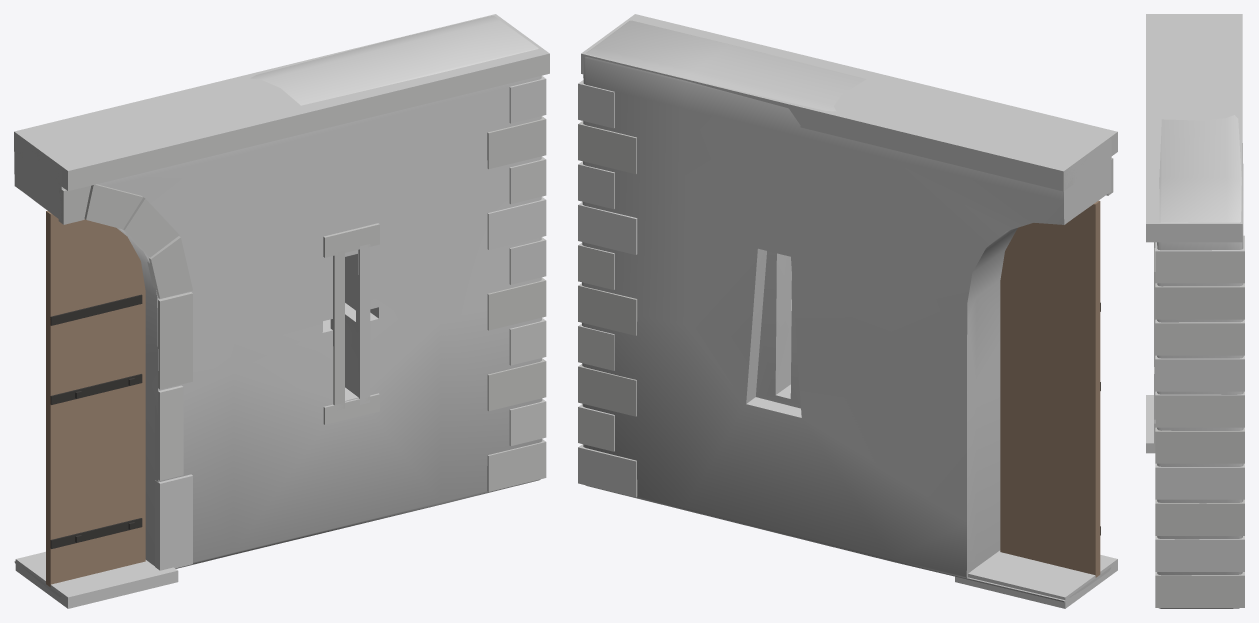
The model's file is Kit_RealKeep_W1FR.fbx.
3 renders of one model, left to right at view 1: azimuth 30°, elevation 25°; view 2: azimuth 150°, elevation 25°; view 3: azimuth 270°, elevation 25°, orthographic. The views are drawn at different scales.
Visible parts, largest first — view 1: Kit_RealKeep_W1FR_LOD0; view 2: Kit_RealKeep_W1FR_LOD0; view 3: Kit_RealKeep_W1FR_LOD0.
Boxes of the visible parts, box(x1,y1,x2,y2) form: Kit_RealKeep_W1FR_LOD0: box(14, 14, 549, 608); Kit_RealKeep_W1FR_LOD0: box(578, 14, 1117, 608); Kit_RealKeep_W1FR_LOD0: box(1146, 14, 1244, 608).
Size of what is drawn, in the model's own units: 3.51 by 3.05 by 0.695.
